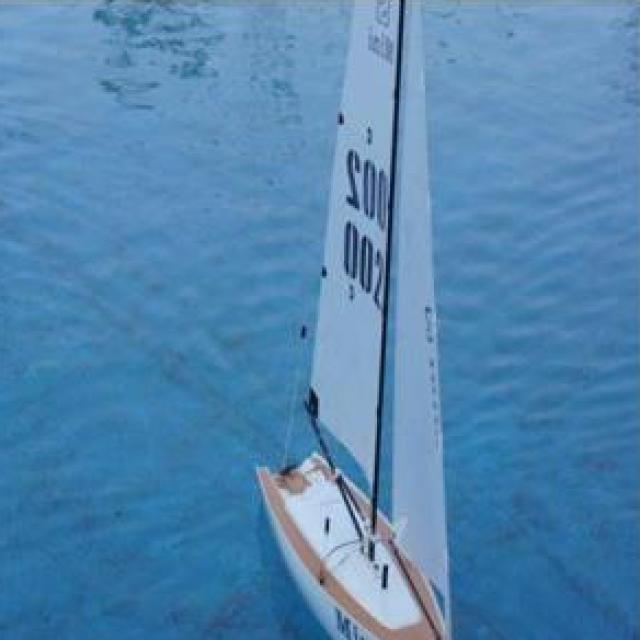sailboat: (245, 0, 478, 640)
